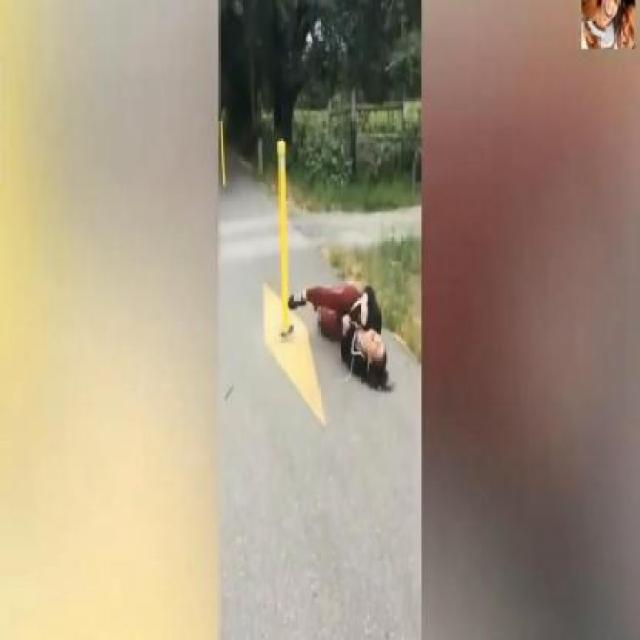fall: (285, 272, 390, 396)
